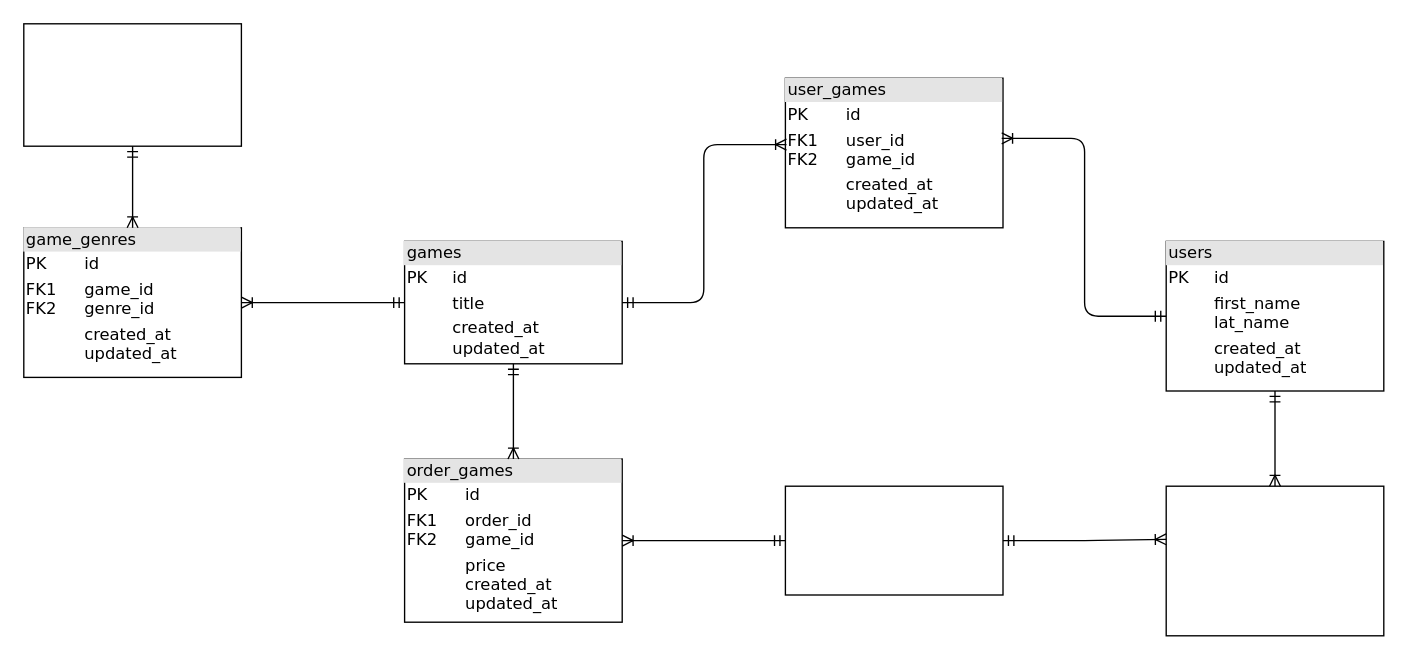
Some shapes in this 1408 by 660 pixel diagram are drawn without their labels. Here are the shapes that lost their labels. From the top down, the centre of each, then its label:
At (x=131, y=84): "genres PK id title created_at updated_at".
At (x=893, y=540): "orders PK id created_at updated_at".
At (x=1274, y=560): "user_orders PK id FK1 FK2 user_id order_id created_at updated_at".
